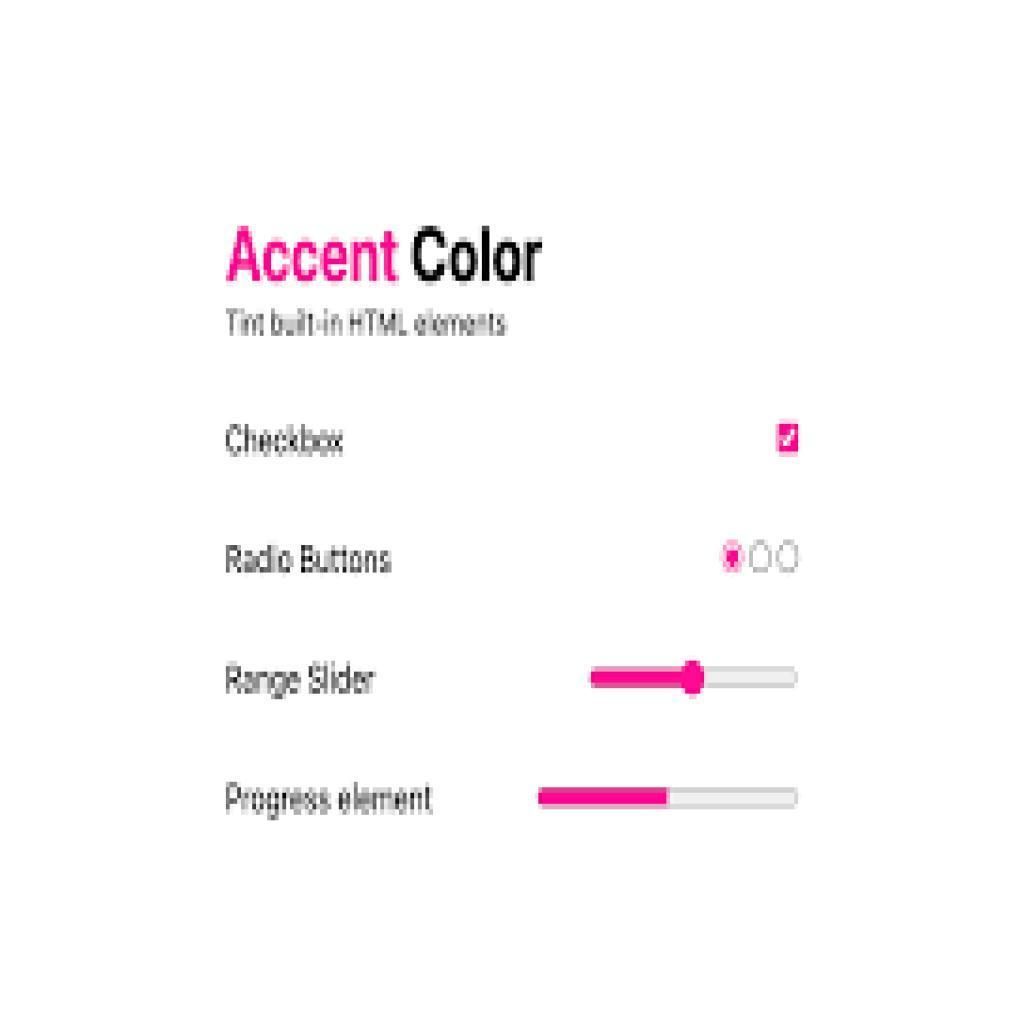checkbox: (778, 423, 801, 454)
label: (225, 224, 548, 288), (225, 307, 507, 343), (223, 778, 434, 824), (222, 542, 398, 581), (224, 662, 380, 704), (222, 421, 348, 461)
radio: (719, 540, 747, 574), (775, 540, 800, 575), (749, 541, 774, 575)
slider: (590, 660, 800, 701), (538, 785, 800, 812)
